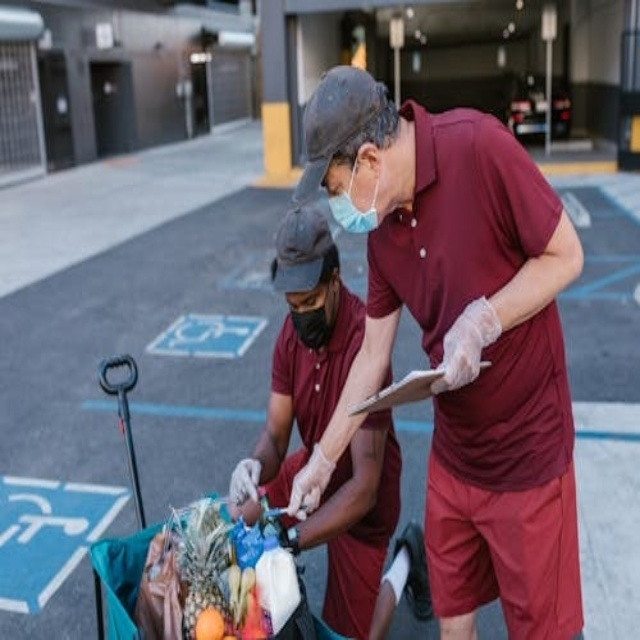Guantes: (436, 295, 502, 392), (289, 441, 337, 520), (230, 457, 262, 510)
Mascara: (328, 154, 379, 234), (288, 283, 334, 350)
Sin_gafas: (324, 156, 358, 207), (285, 286, 319, 309)
